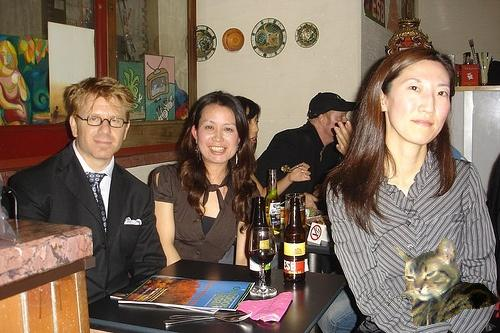tampered: (389, 239, 499, 326)
